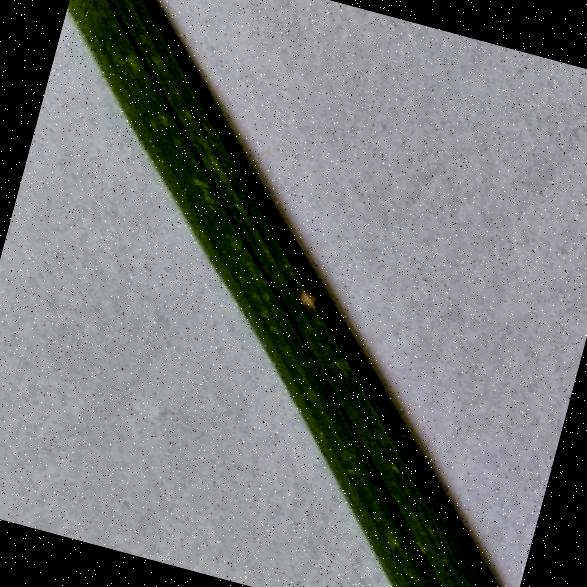Leaf_smut: (264, 249, 346, 321)
